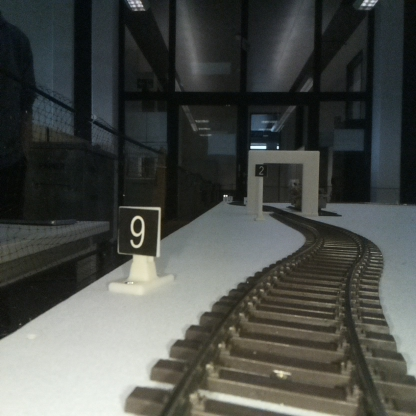black-info-2: (254, 163, 268, 219)
black-stop-9: (119, 209, 158, 289)
